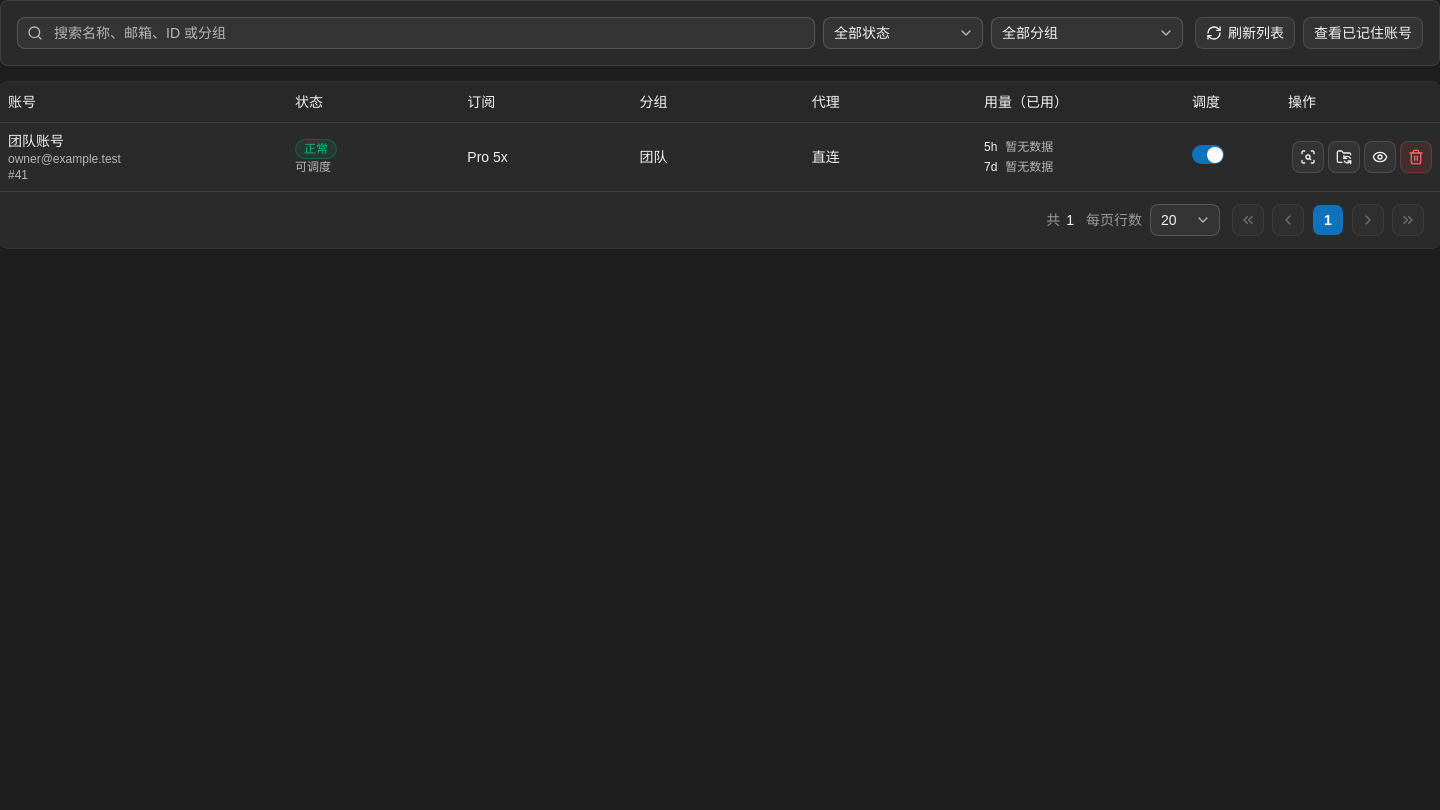
Test case: 影响范围读取期间禁止提交，关闭窗口取消读取
Click the button named "删除 团队账号". click: [1416, 156]
box: [1400,140,1432,172]
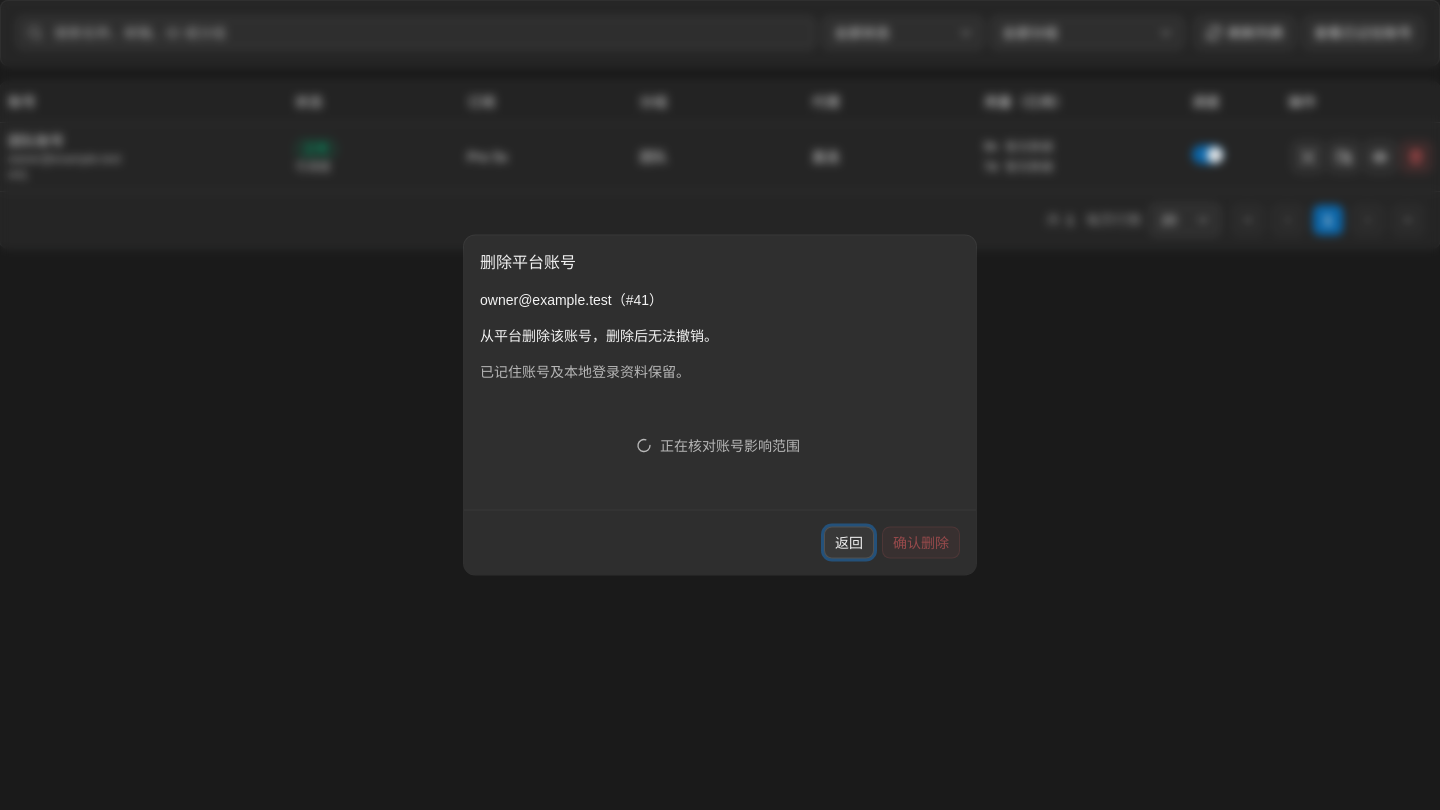
Now the message "正在核对账号影响范围" is shown, box [636,438,800,454]
Now the button "确认删除" is disabled, box [882,526,960,558]
Click the button "返回". click: [849, 542]
box: [824,526,874,558]
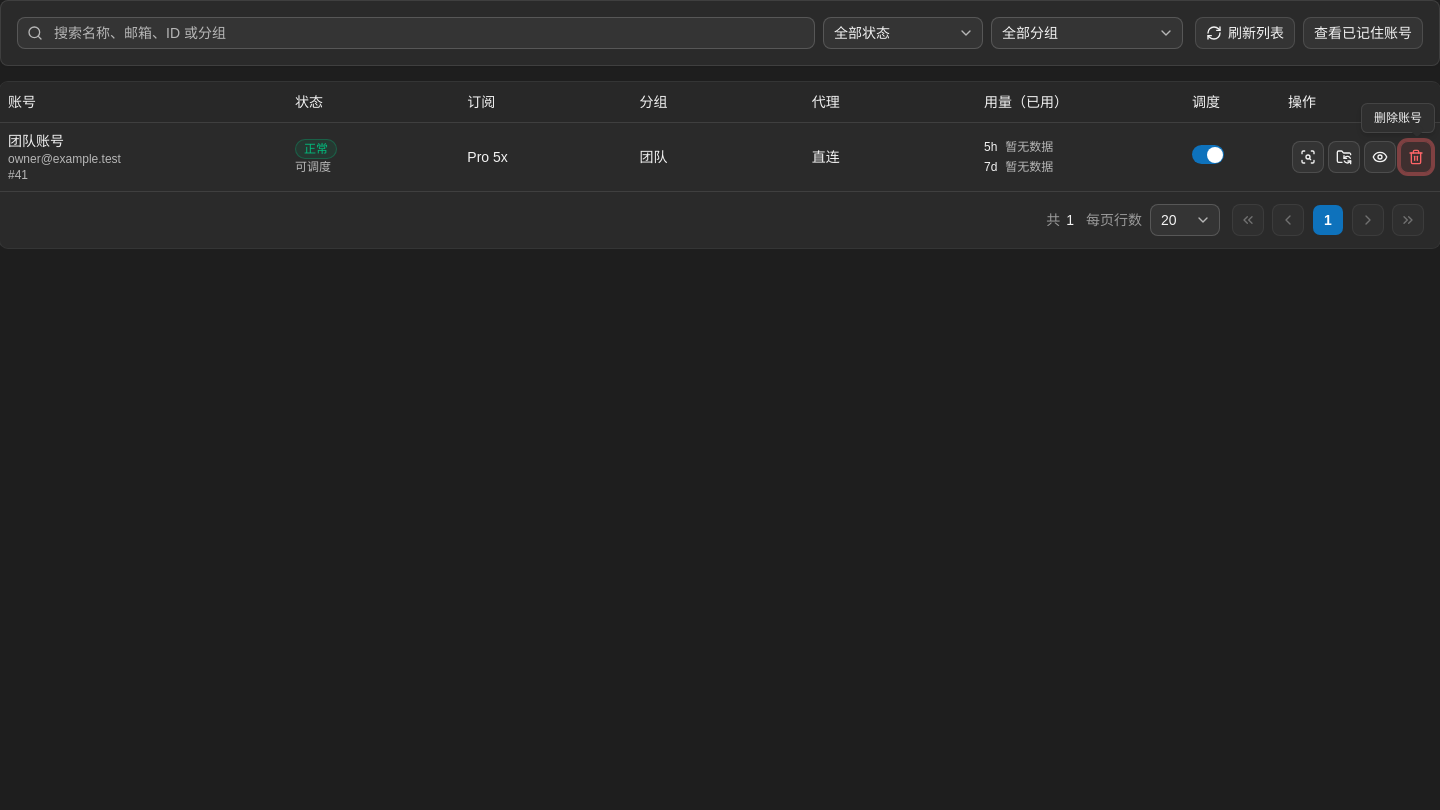
Now the dialog is gone
